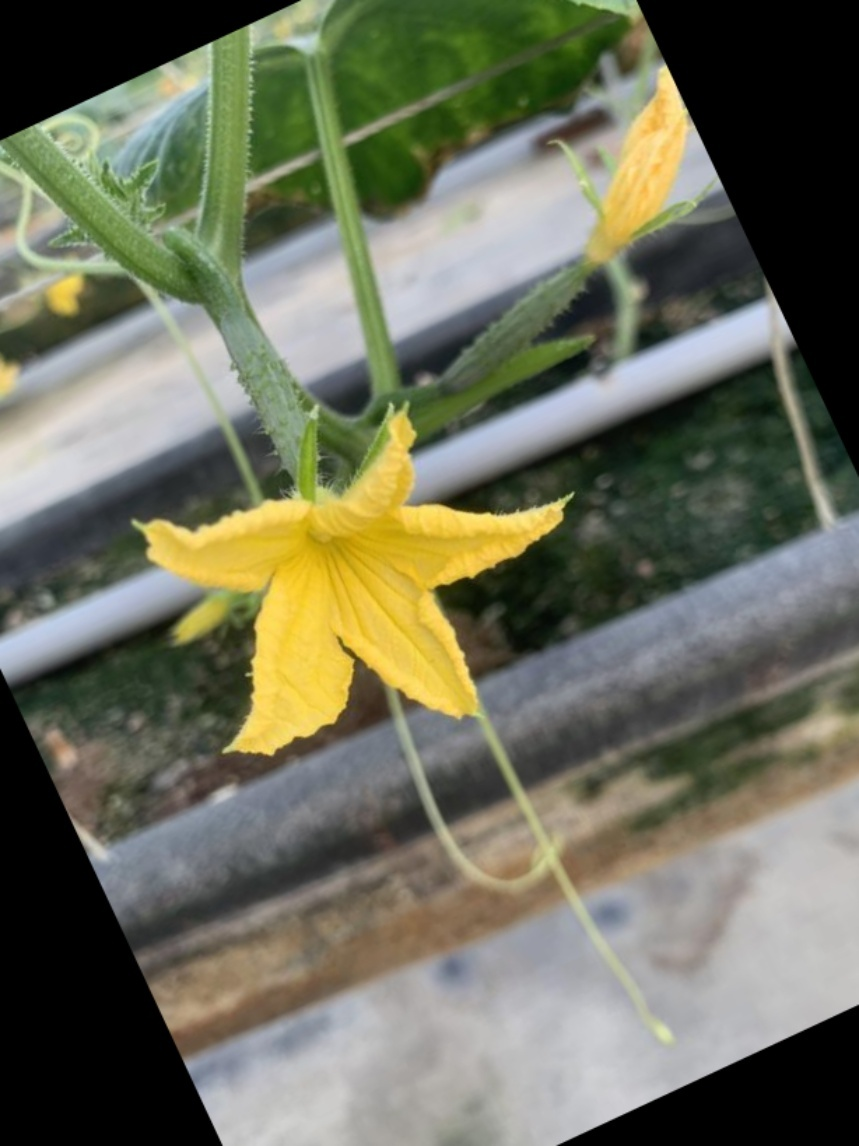flowering: (133, 401, 578, 741)
